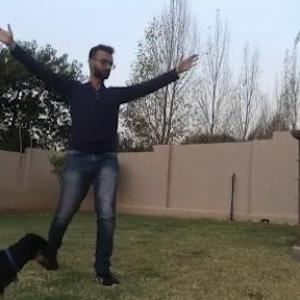takeoff: (0, 4, 236, 297)
